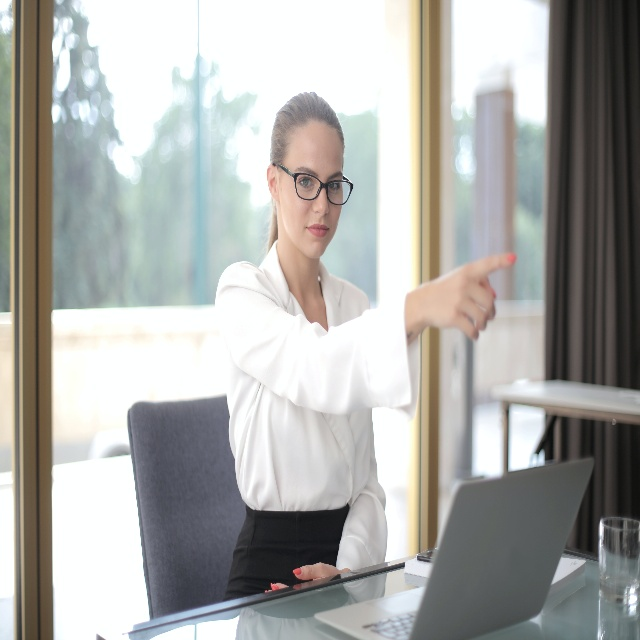Gafas: (292, 168, 356, 204)
Sin_guantes: (426, 253, 518, 339), (266, 562, 339, 594)
